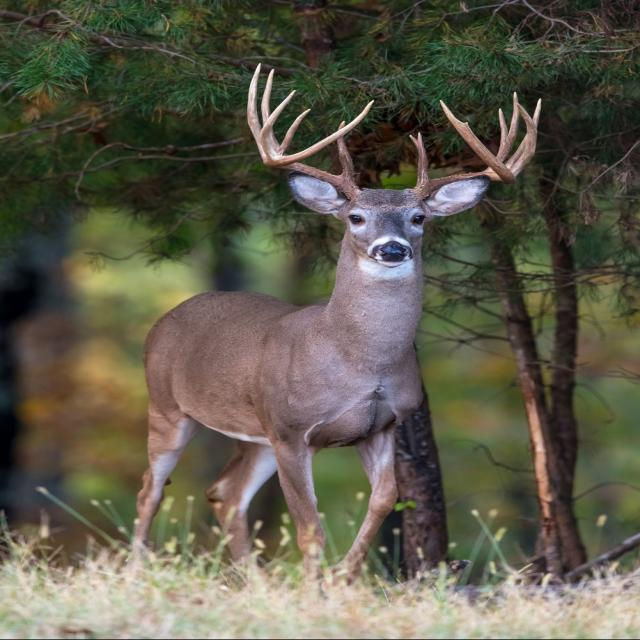Deer: (113, 68, 550, 573)
